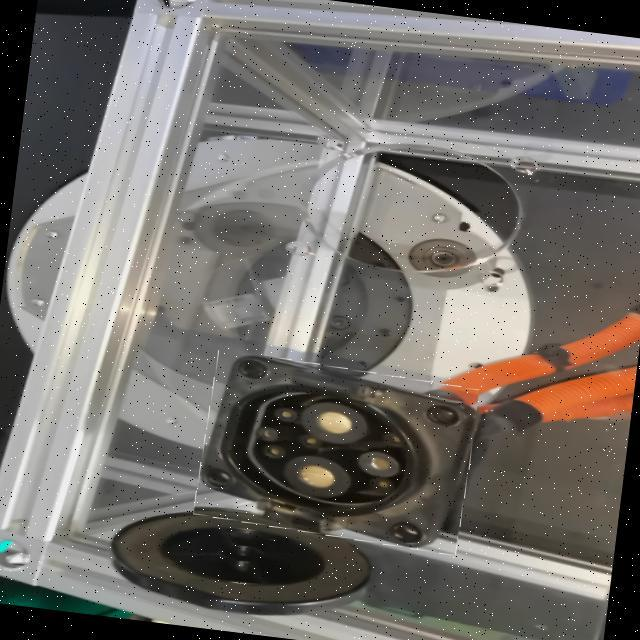GB-T: (228, 359, 448, 535)
